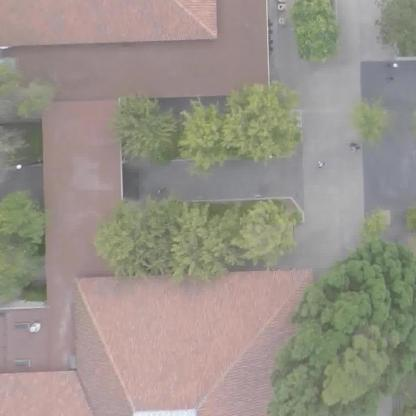Pedestrian: (314, 157, 328, 178), (385, 73, 402, 89), (349, 138, 362, 158), (152, 184, 164, 198)
